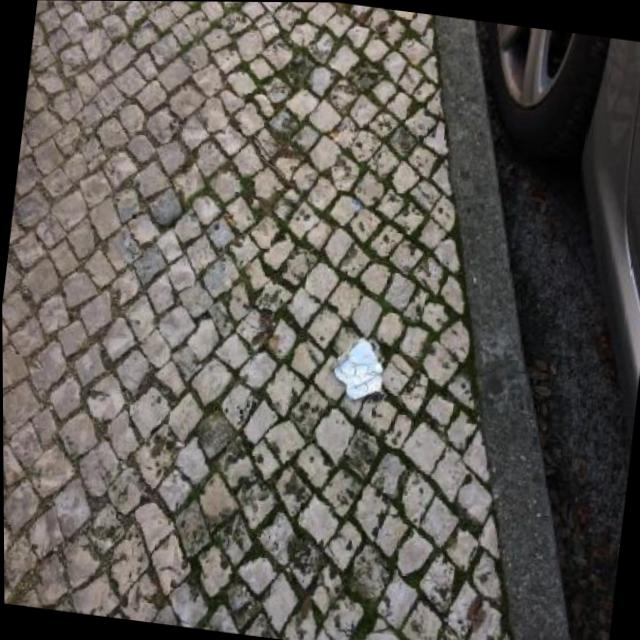metal: (324, 336, 387, 404)
